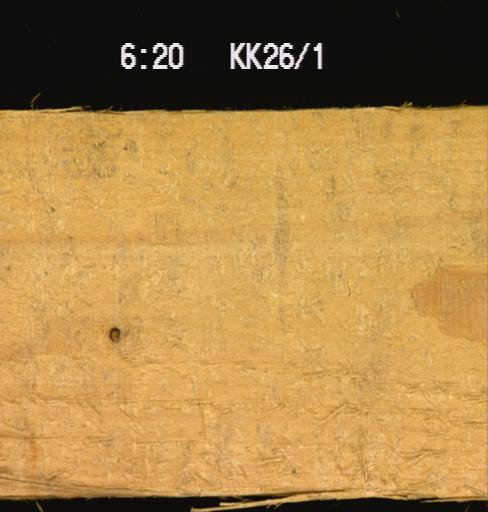dry_knot: (107, 326, 121, 344)
split: (0, 473, 61, 487)
